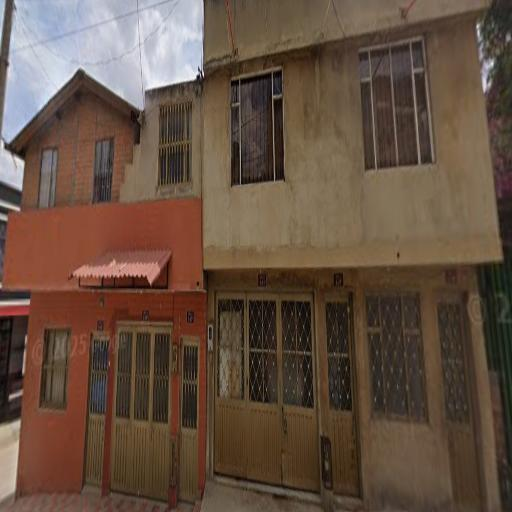Casa: (202, 0, 504, 511), (1, 70, 208, 502)
